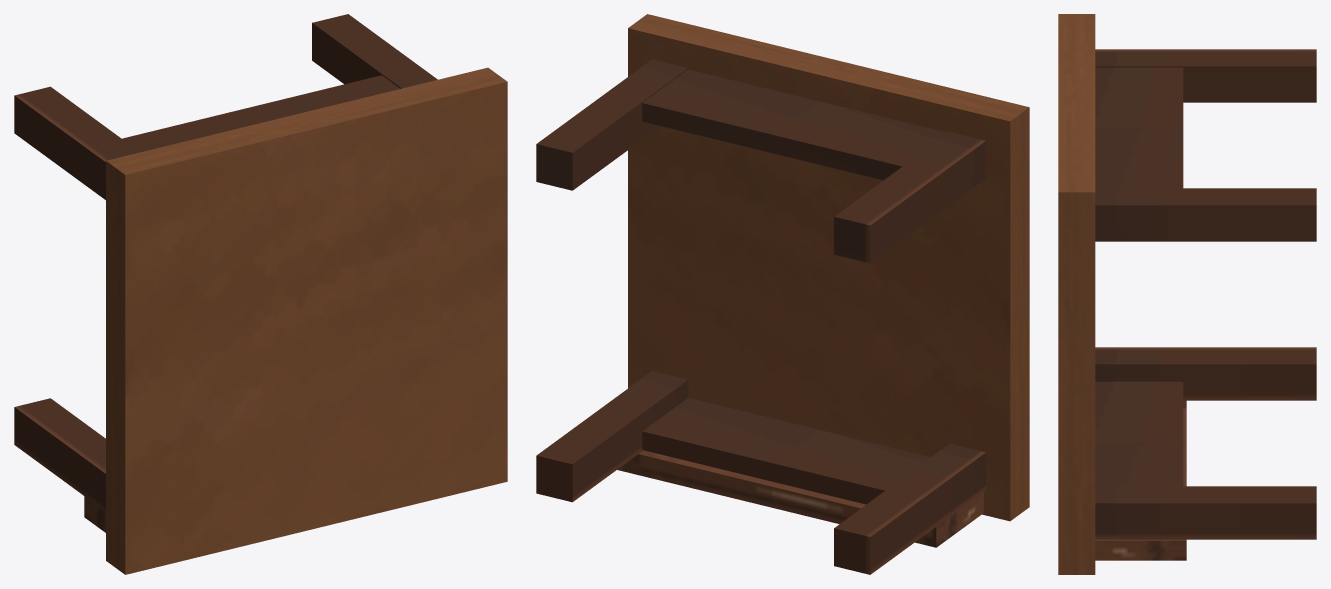
File: pz_table_storage_01_small.obj
3 views of the same model, side by side, from view 1: azimuth 30°, elevation 25°; view 2: azimuth 150°, elevation 25°; view 3: azimuth 270°, elevation 25° (orthographic). The views are drawn at different scales.
Bounding box in the file's own units: 0.625 × 0.625 × 0.3827.
